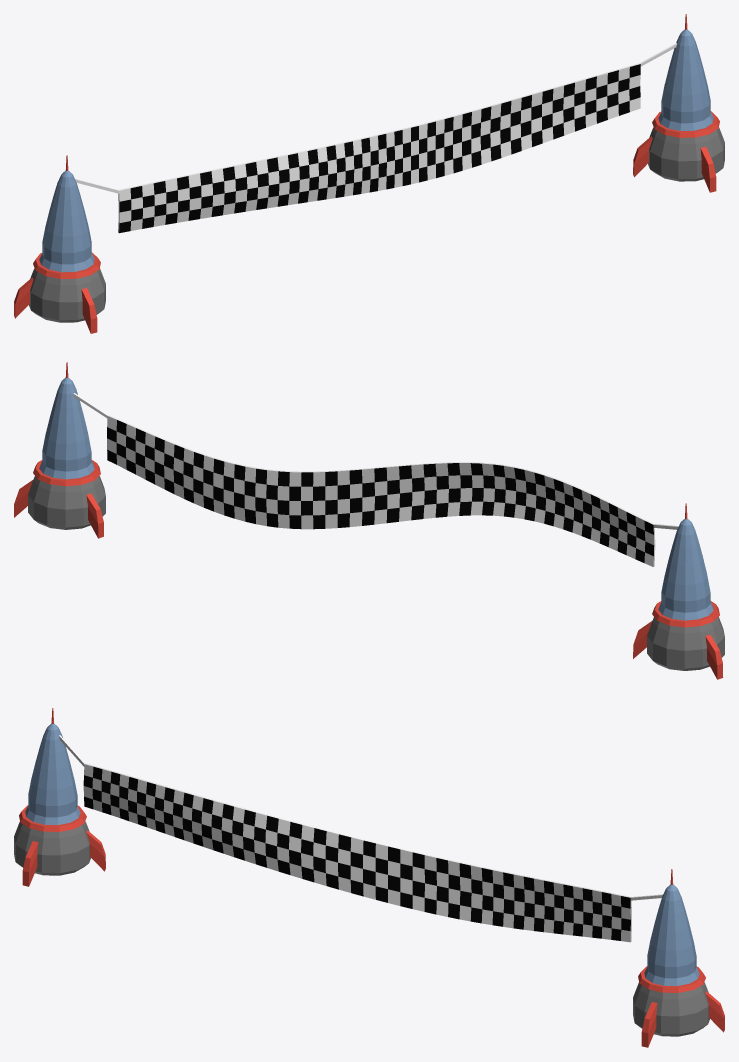
The model's file is Finish.fbx.
3 renders of one model, top to bottom at view 1: azimuth 30°, elevation 25°; view 2: azimuth 150°, elevation 25°; view 3: azimuth 330°, elevation 25°, orthographic.
Parts seen in each view (by area): view 1: Fuse1, Fuse2, Finish; view 2: Fuse1, Fuse2, Finish; view 3: Fuse1, Finish, Fuse2.
Part boxes in pixels (bbox=[...]): Fuse1: bbox=[75, 43, 676, 233]; Fuse2: bbox=[14, 155, 105, 333]; Finish: bbox=[633, 14, 724, 192]; Fuse1: bbox=[73, 393, 678, 566]; Fuse2: bbox=[633, 503, 724, 679]; Finish: bbox=[14, 362, 105, 538]; Fuse1: bbox=[59, 735, 662, 942]; Finish: bbox=[633, 869, 724, 1047]; Fuse2: bbox=[14, 708, 105, 886].
Size of the model in its own units: 460 by 104 by 52.55.
